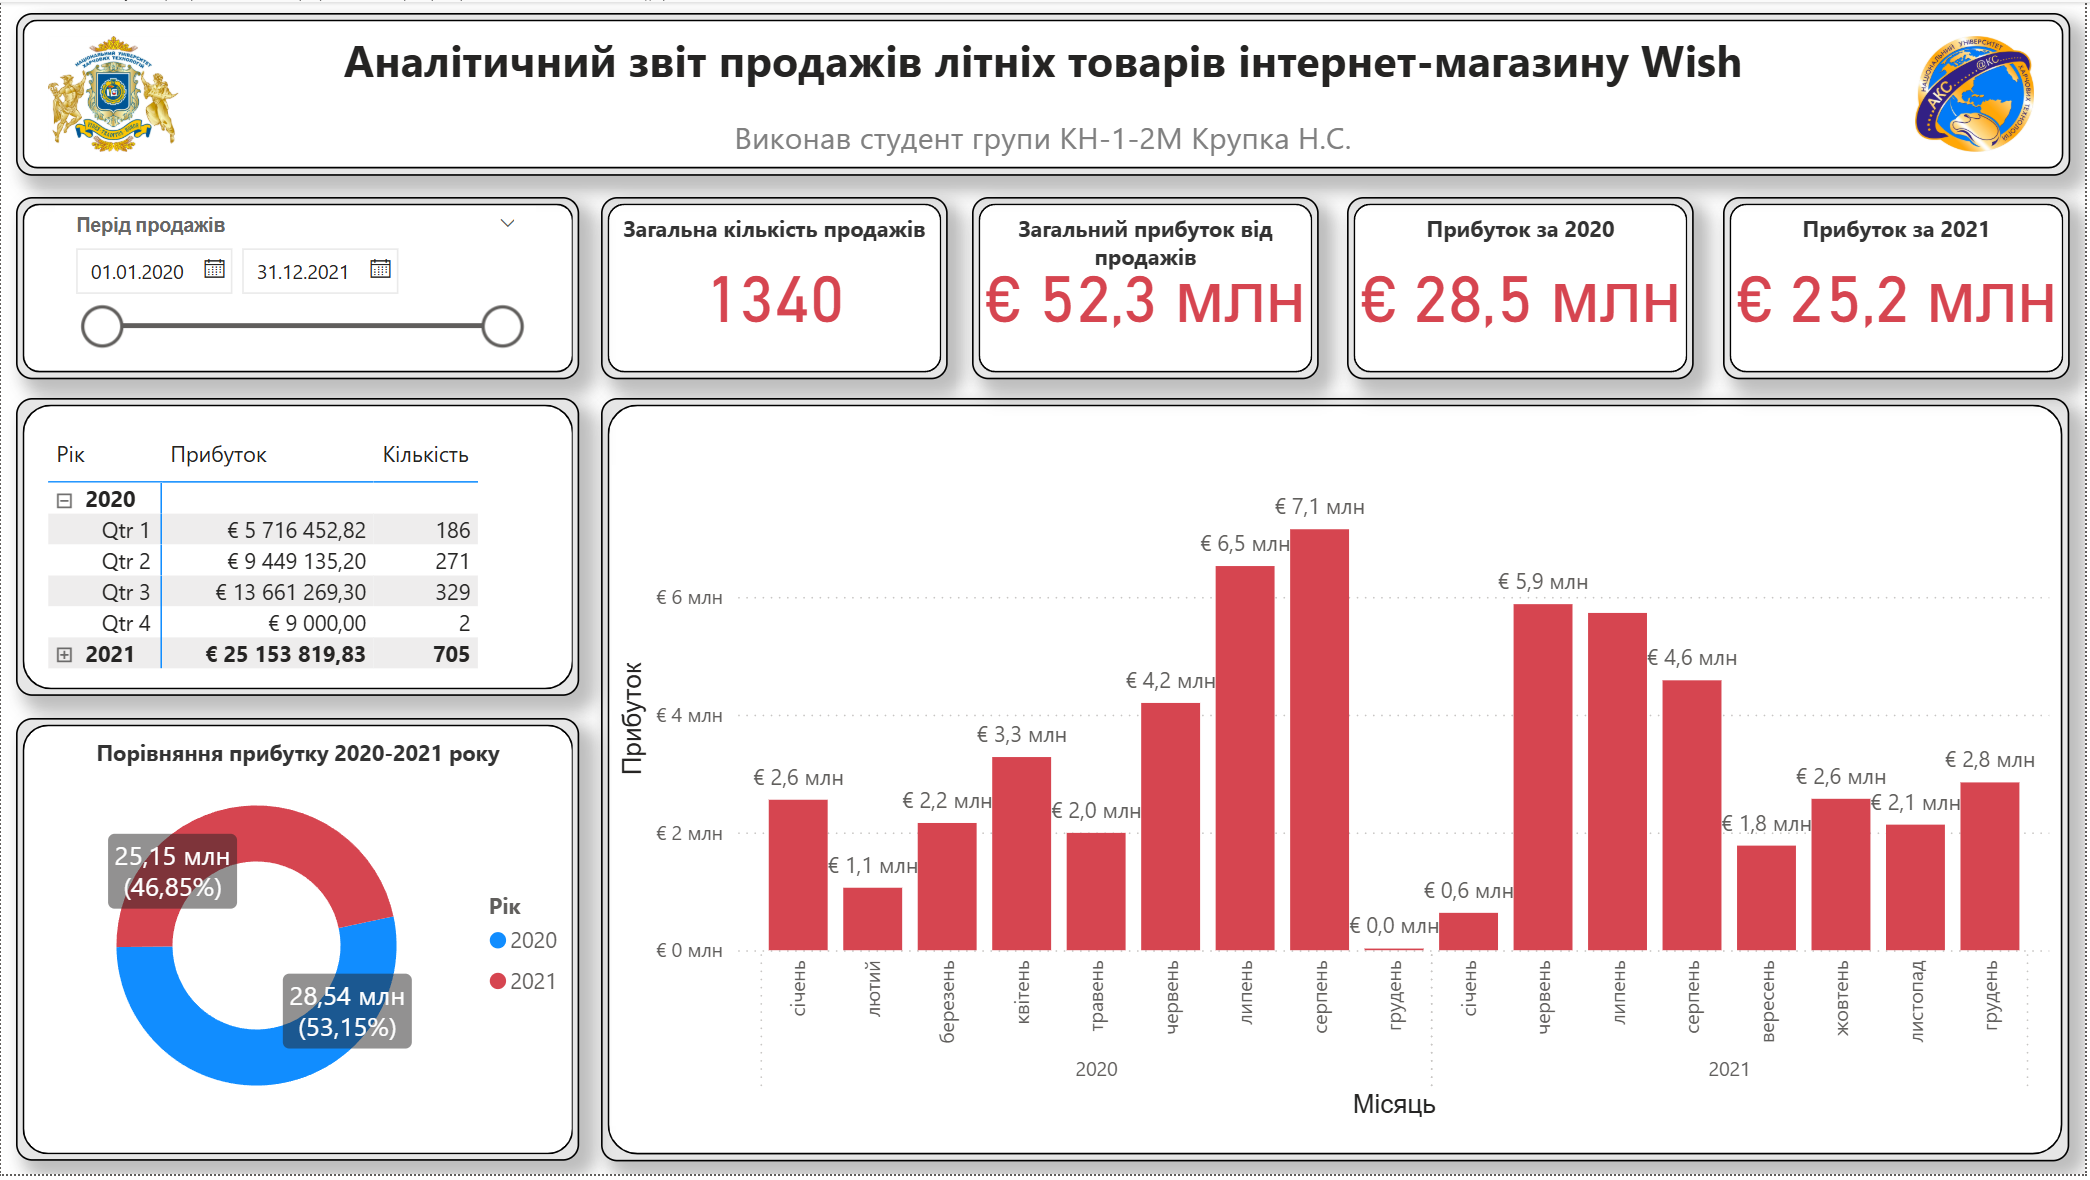

What the dashboard file says about the page in this screenshot:
{"tool":"powerbi","page":{"name":"Загальні відомості","canvas":[1280,720],"ordinal":0},"visuals":[{"type":"shape","box":[368.6,119.8,213.2,111.8],"z":0},{"type":"shape","box":[368.6,243.3,901.8,468.7],"z":1000},{"type":"shape","box":[596.5,119.8,213.2,111.8],"z":2000},{"type":"shape","box":[826.9,119.8,213.2,111.8],"z":3000},{"type":"shape","box":[1057.9,119.8,213.2,111.8],"z":4000},{"type":"shape","box":[9.2,119.8,346.5,111.8],"z":5000},{"type":"shape","box":[9.2,6.8,1261.8,99.5],"z":6000},{"type":"textbox","box":[9.2,12.3,1261.8,88.5],"z":7000},{"type":"image","box":[1170.9,16,83.5,81.1],"z":8000},{"type":"image","box":[24,16,89.7,81.1],"z":9000},{"type":"slicer","fields":{"Values":["calendar.Date"]},"box":[33.2,125.3,295.5,100.1],"z":10000},{"type":"shape","box":[9.2,243.3,346.5,183.1],"z":11000},{"type":"shape","box":[9.2,439.9,346.5,272.2],"z":12000},{"type":"card","fields":{"Values":["CountNonNull(Cleaned_Product_Details_Table.units_sold)"]},"box":[375.4,125.3,199.7,106.3],"z":13000},{"type":"card","fields":{"Values":["Product_Details_Table.Total Revenue"]},"box":[596.5,125.3,213.2,106.3],"z":14000},{"type":"card","fields":{"Values":["Product_Details_Table.Profit 2020"]},"box":[830.6,125.3,206.4,106.3],"z":15000},{"type":"card","fields":{"Values":["Product_Details_Table.Profit 2021"]},"box":[1061.6,125.3,206.4,106.3],"z":16000},{"type":"columnChart","fields":{"Y":["Product_Details_Table.Total Revenue"],"Category":["calendar.Date.Варіація.Ієрархія дат.Рік","calendar.Date.Варіація.Ієрархія дат.Місяць"]},"box":[375.4,284.4,888.3,406.1],"z":17000},{"type":"textbox","box":[375.4,125.3,199.7,43.6],"z":18000},{"type":"textbox","box":[603.3,125.3,199.7,43.6],"z":19000},{"type":"textbox","box":[833.7,125.3,199.7,29.5],"z":20000},{"type":"textbox","box":[1064.6,125.3,199.7,29.5],"z":21000},{"type":"donutChart","fields":{"Y":["Product_Details_Table.Total Revenue"],"Category":["calendar.Date.Варіація.Ієрархія дат.Рік"]},"box":[9.2,447.2,346.5,264.8],"z":22000},{"type":"textbox","box":[30.1,447.2,304.7,30.7],"z":23000},{"type":"pivotTable","fields":{"Rows":["calendar.Date.Варіація.Ієрархія дат.Рік","calendar.Date.Варіація.Ієрархія дат.Квартал"],"Values":["Product_Details_Table.Total Revenue","CountNonNull(Product_Details_Table.units_sold)"]},"box":[24,262.3,310.9,164],"z":24000}]}

Visuals, with their boxes in screenshot pixels (x1, y1, x2, y2), scaled from the page's 1280x720 canvas onto the 2090x1180 screenshot:
shape: [left=602, top=196, right=950, bottom=380]
shape: [left=602, top=399, right=2074, bottom=1167]
shape: [left=974, top=196, right=1322, bottom=380]
shape: [left=1350, top=196, right=1698, bottom=380]
shape: [left=1727, top=196, right=2075, bottom=380]
shape: [left=15, top=196, right=581, bottom=380]
shape: [left=15, top=11, right=2075, bottom=174]
textbox: [left=15, top=20, right=2075, bottom=165]
image: [left=1912, top=26, right=2048, bottom=159]
image: [left=39, top=26, right=186, bottom=159]
slicer - calendar.Date: [left=54, top=205, right=537, bottom=369]
shape: [left=15, top=399, right=581, bottom=699]
shape: [left=15, top=721, right=581, bottom=1167]
card - CountNonNull(Cleaned_Product_Details_Table.units_sold): [left=613, top=205, right=939, bottom=380]
card - Product_Details_Table.Total Revenue: [left=974, top=205, right=1322, bottom=380]
card - Product_Details_Table.Profit 2020: [left=1356, top=205, right=1693, bottom=380]
card - Product_Details_Table.Profit 2021: [left=1733, top=205, right=2070, bottom=380]
columnChart - Product_Details_Table.Total Revenue x calendar.Date.Варіація.Ієрархія дат.Рік: [left=613, top=466, right=2063, bottom=1132]
textbox: [left=613, top=205, right=939, bottom=277]
textbox: [left=985, top=205, right=1311, bottom=277]
textbox: [left=1361, top=205, right=1687, bottom=254]
textbox: [left=1738, top=205, right=2064, bottom=254]
donutChart - Product_Details_Table.Total Revenue x calendar.Date.Варіація.Ієрархія дат.Рік: [left=15, top=733, right=581, bottom=1167]
textbox: [left=49, top=733, right=547, bottom=783]
pivotTable - calendar.Date.Варіація.Ієрархія дат.Рік x calendar.Date.Варіація.Ієрархія дат.Квартал: [left=39, top=430, right=547, bottom=699]
